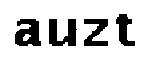a: (11, 17, 41, 51)
t: (113, 11, 141, 47)
u: (45, 15, 79, 51)
z: (82, 17, 112, 50)
